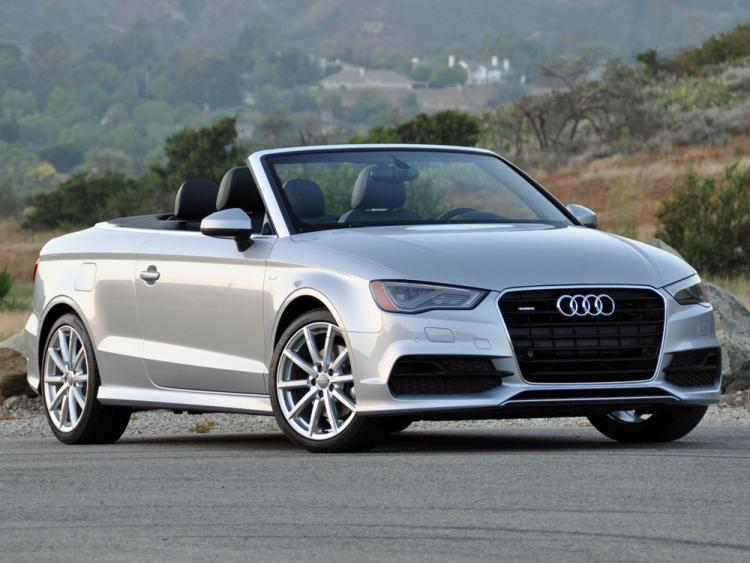audi: (546, 292, 617, 319)
